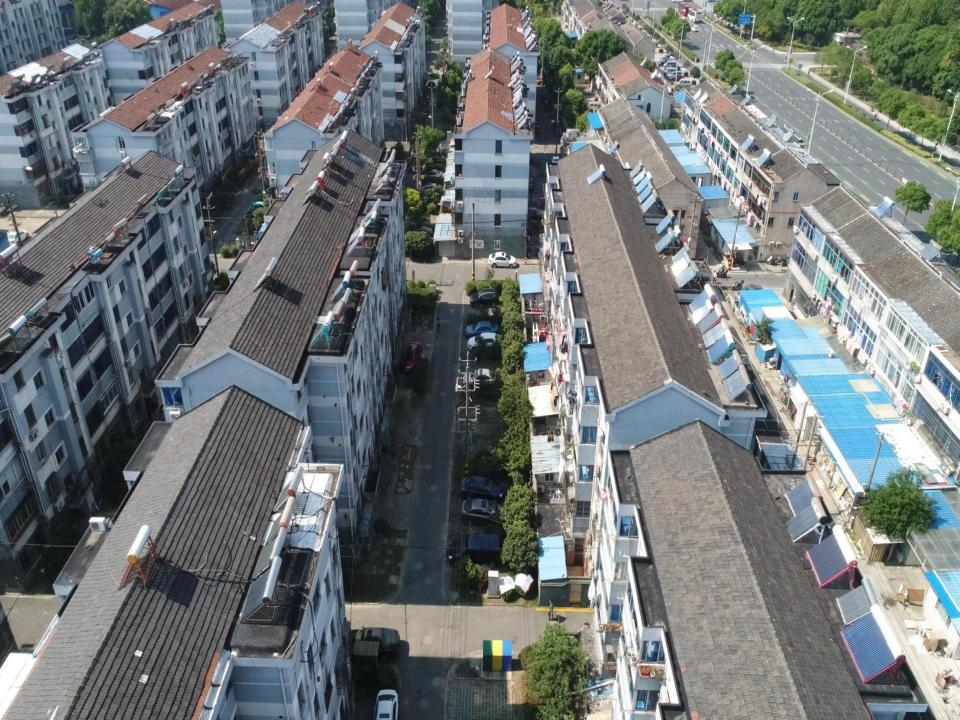bus: (677, 1, 692, 18), (687, 6, 701, 23)
car: (446, 534, 502, 566), (349, 626, 400, 655), (461, 497, 504, 523), (460, 476, 505, 500), (373, 686, 400, 719), (466, 332, 500, 352), (462, 367, 497, 386), (402, 340, 422, 373), (733, 284, 763, 305), (470, 287, 498, 309), (466, 320, 498, 338), (488, 251, 517, 269), (6, 229, 29, 245), (410, 225, 433, 237), (417, 182, 437, 195), (424, 155, 447, 166), (420, 169, 442, 180), (536, 76, 552, 86), (669, 76, 684, 84), (658, 59, 672, 67), (690, 23, 698, 32)
van: (676, 78, 691, 90), (667, 71, 683, 80), (665, 67, 679, 76), (663, 60, 677, 69)
